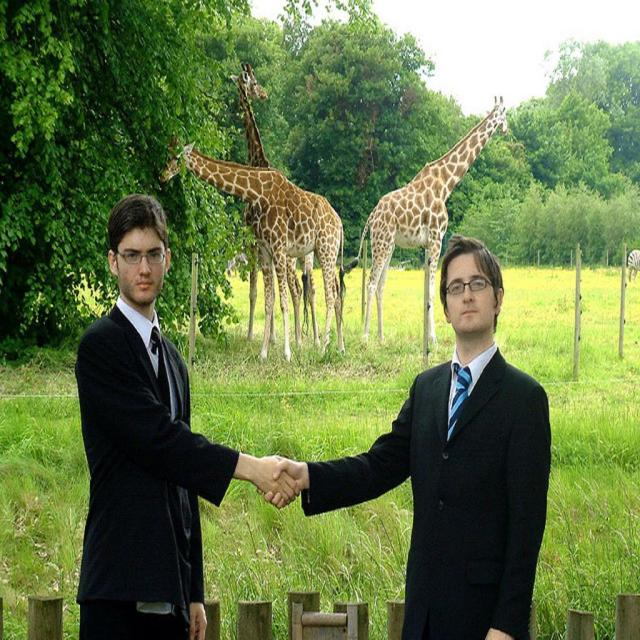Face: (431, 252, 498, 323), (116, 225, 167, 306)
